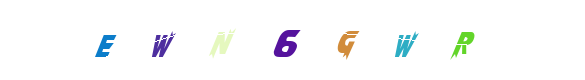6: (224, 0, 304, 80)
E: (200, 0, 280, 80)
G: (252, 0, 332, 80)
N: (224, 0, 304, 80)
R: (423, 0, 503, 80)
W: (217, 0, 297, 80), (306, 0, 386, 80)
